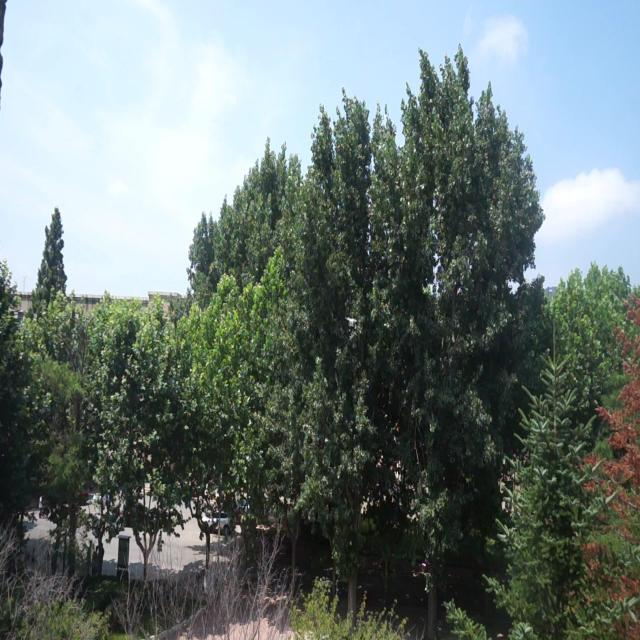drone: (344, 310, 358, 332)
